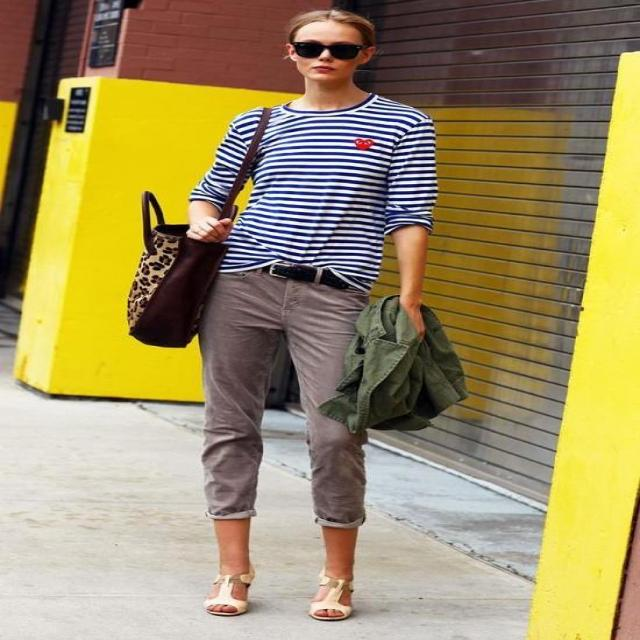Tshirt: (188, 93, 438, 293)
pants: (196, 264, 375, 530)
